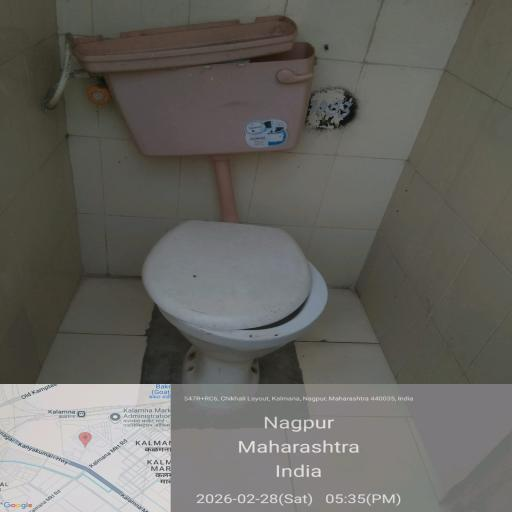clean_floor: (318, 1, 512, 286), (9, 134, 138, 365)
clean_western: (162, 226, 302, 378)
partial_dirty_floor: (319, 299, 509, 375)
